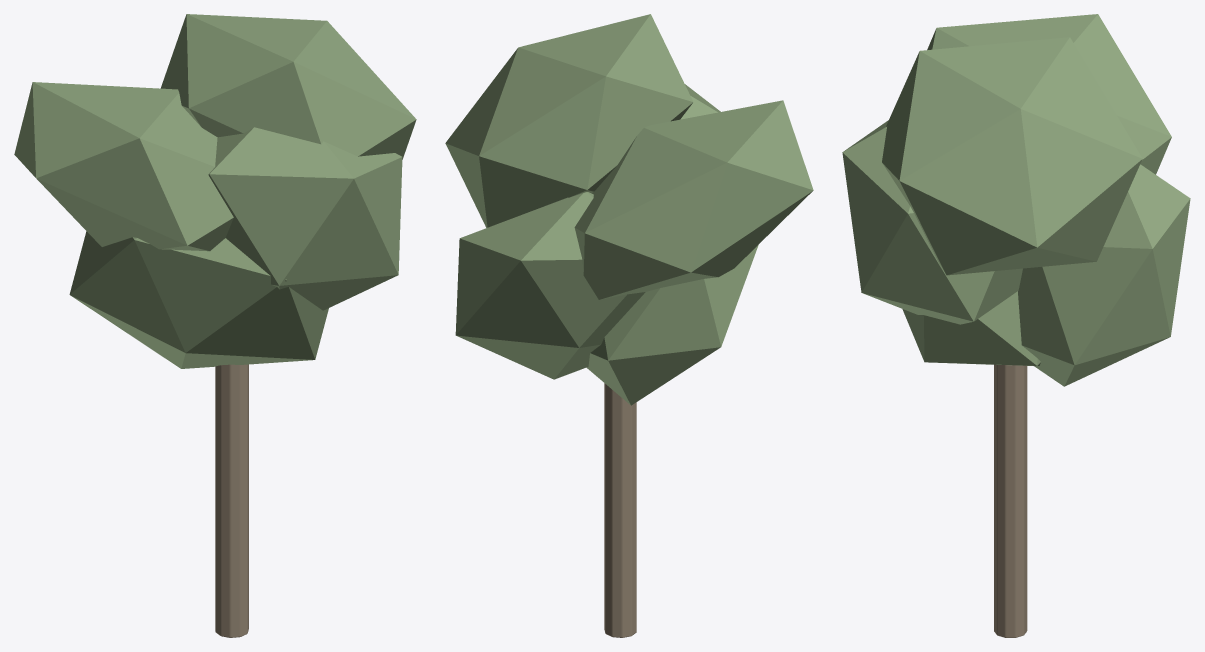
The model's file is tree.glb.
The picture shows the model from 3 angles, left to right: view 1: azimuth 30°, elevation 25°; view 2: azimuth 150°, elevation 25°; view 3: azimuth 270°, elevation 25°; orthographic projection. The views are drawn at different scales.
Visible parts, largest first — view 1: Icosphere.002, Icosphere.004, Icosphere, Icosphere.003, tronco; view 2: Icosphere.002, Icosphere, Icosphere.001, Icosphere.003, tronco, Icosphere.004; view 3: Icosphere, Icosphere.001, Icosphere.004, tronco, Icosphere.002, Icosphere.003.
Part boxes in pixels (<box>): Icosphere.002: <box>14,82,233,251</box>; Icosphere.004: <box>208,127,402,310</box>; Icosphere: <box>160,14,416,159</box>; Icosphere.003: <box>69,231,328,368</box>; tronco: <box>215,364,248,637</box>; Icosphere.002: <box>574,100,813,299</box>; Icosphere: <box>445,14,693,227</box>; Icosphere.001: <box>455,192,645,379</box>; Icosphere.003: <box>586,245,758,405</box>; tronco: <box>604,383,636,637</box>; Icosphere.004: <box>680,84,720,119</box>; Icosphere: <box>882,37,1142,275</box>; Icosphere.001: <box>1018,164,1190,386</box>; Icosphere.004: <box>842,120,1022,324</box>; tronco: <box>994,364,1027,637</box>; Icosphere.002: <box>927,14,1171,174</box>; Icosphere.003: <box>902,291,1040,365</box>.
Bounding box in the file's own units: 3.43 × 5.39 × 2.89.
